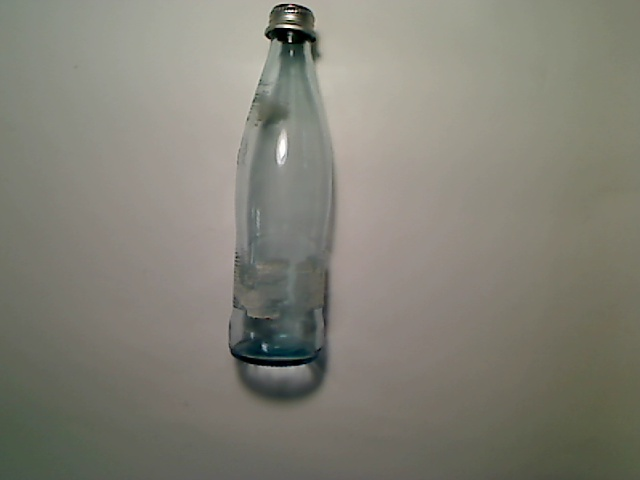bottle: (228, 5, 333, 368)
